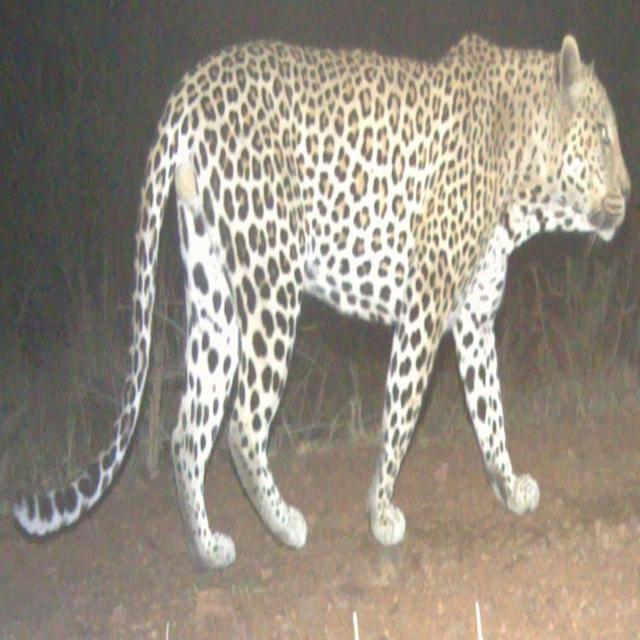Leopard: (25, 47, 640, 619)
